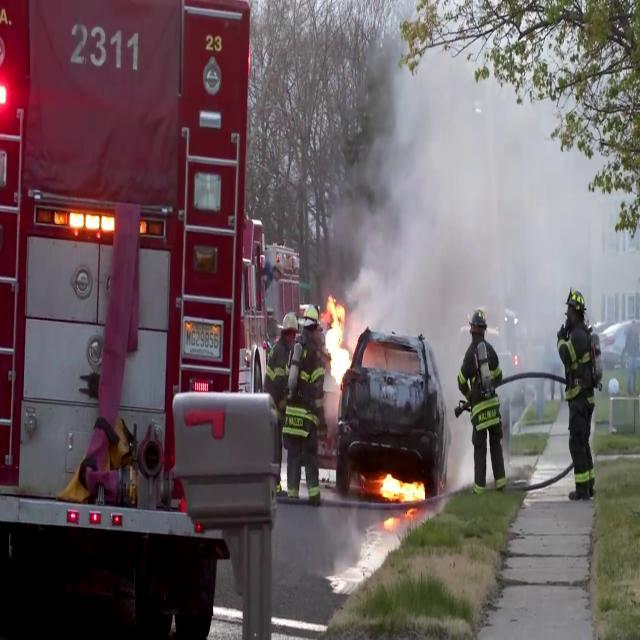Fire: (324, 288, 351, 389), (374, 464, 424, 512)
Smoke: (347, 31, 639, 358)
